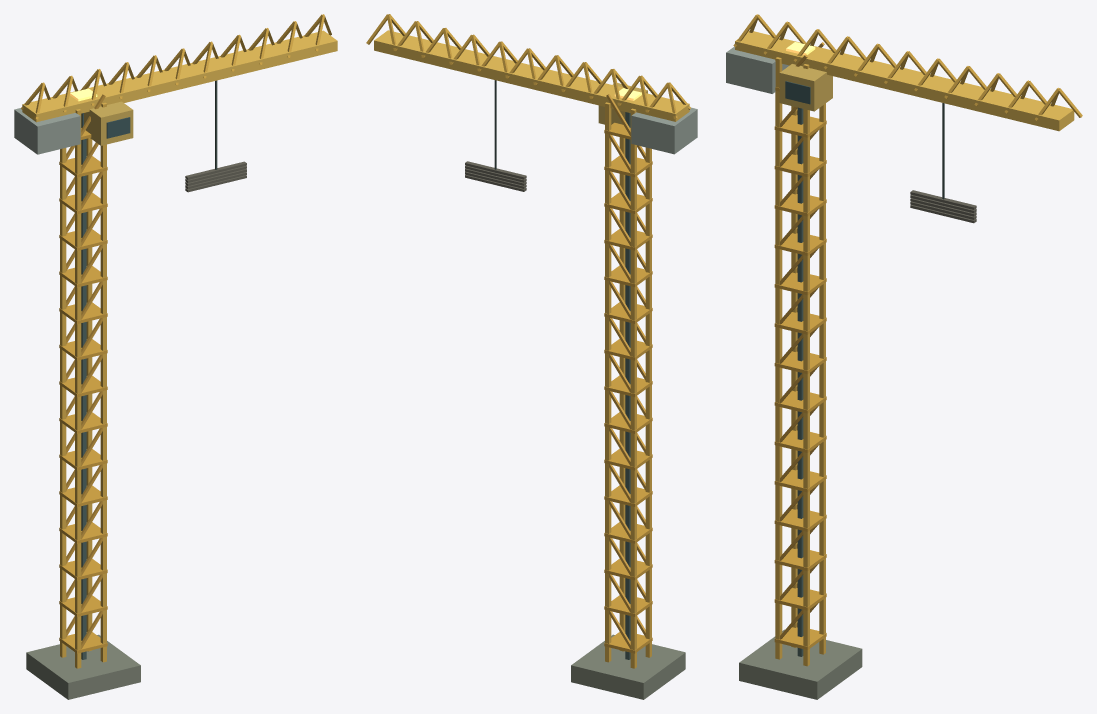
File: tower-crane-steel.glb
3 views of the same model, side by side, from view 1: azimuth 30°, elevation 25°; view 2: azimuth 150°, elevation 25°; view 3: azimuth 330°, elevation 25° (orthographic). The views are drawn at different scales.
Parts seen in each view (by area): view 1: tower-crane_e6b950, jib, tower-crane_dcab44, tower-crane, tower-crane_d2a345, jib_dbae48, cargo_6e6c60; view 2: tower-crane_e6b950, jib, tower-crane_dcab44, tower-crane, jib_dbae48, tower-crane_d2a345, cargo_6e6c60; view 3: tower-crane_e6b950, jib, tower-crane_dcab44, tower-crane, jib_dbae48, tower-crane_d2a345, cargo_6e6c60.
Part boxes in pixels (left/top/right/bottom): tower-crane_e6b950: left=60, top=102, right=106, bottom=668; jib: left=14, top=30, right=337, bottom=154; tower-crane_dcab44: left=59, top=128, right=107, bottom=653; tower-crane: left=26, top=88, right=140, bottom=699; tower-crane_d2a345: left=66, top=85, right=105, bottom=648; jib_dbae48: left=21, top=14, right=331, bottom=119; cargo_6e6c60: left=185, top=161, right=246, bottom=192; tower-crane_e6b950: left=605, top=102, right=651, bottom=668; jib: left=374, top=30, right=697, bottom=154; tower-crane_dcab44: left=604, top=122, right=652, bottom=653; tower-crane: left=571, top=88, right=685, bottom=699; jib_dbae48: left=366, top=14, right=690, bottom=119; tower-crane_d2a345: left=606, top=84, right=645, bottom=648; cargo_6e6c60: left=465, top=161, right=526, bottom=191; tower-crane_e6b950: left=775, top=57, right=825, bottom=666; jib: left=726, top=30, right=1074, bottom=131; tower-crane_dcab44: left=774, top=87, right=826, bottom=649; tower-crane: left=739, top=42, right=862, bottom=699; jib_dbae48: left=733, top=14, right=1082, bottom=120; tower-crane_d2a345: left=780, top=42, right=824, bottom=639; cargo_6e6c60: left=910, top=190, right=976, bottom=223.
Size of the model in its own units: 5.81 by 10.7 by 1.35.
